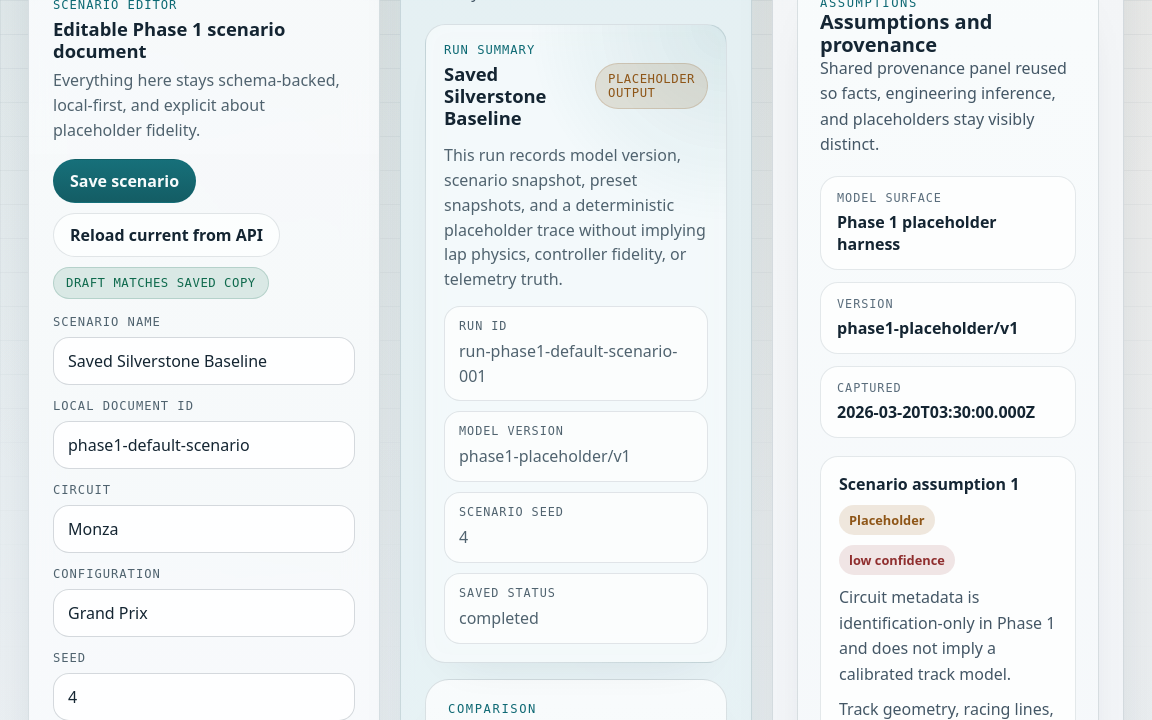
Test: App › saves the edited scenario and appends a placeholder run through the mocked API
(page scrolled)
Step 1. Replace the text in the field labelled "Scenario name" with "Wet validation draft" → (204, 361), box [53,337,355,385]
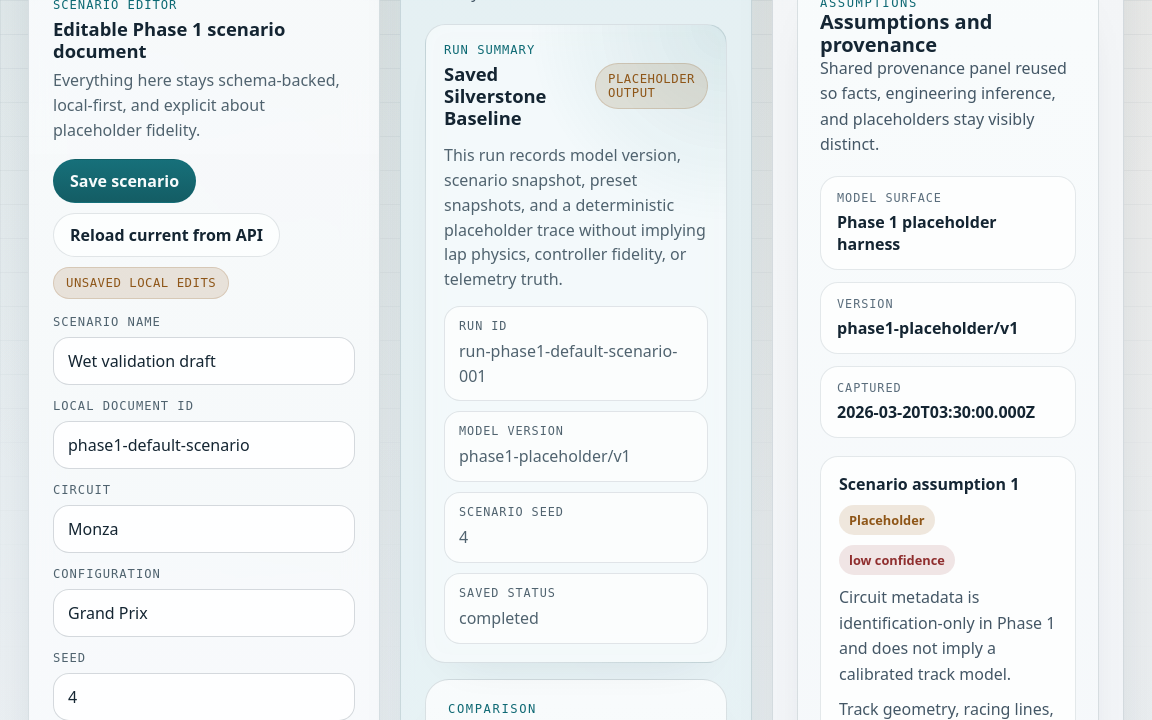
Step 2. Click the button "Save scenario" → (125, 181), box [53,159,196,203]
(page scrolled)
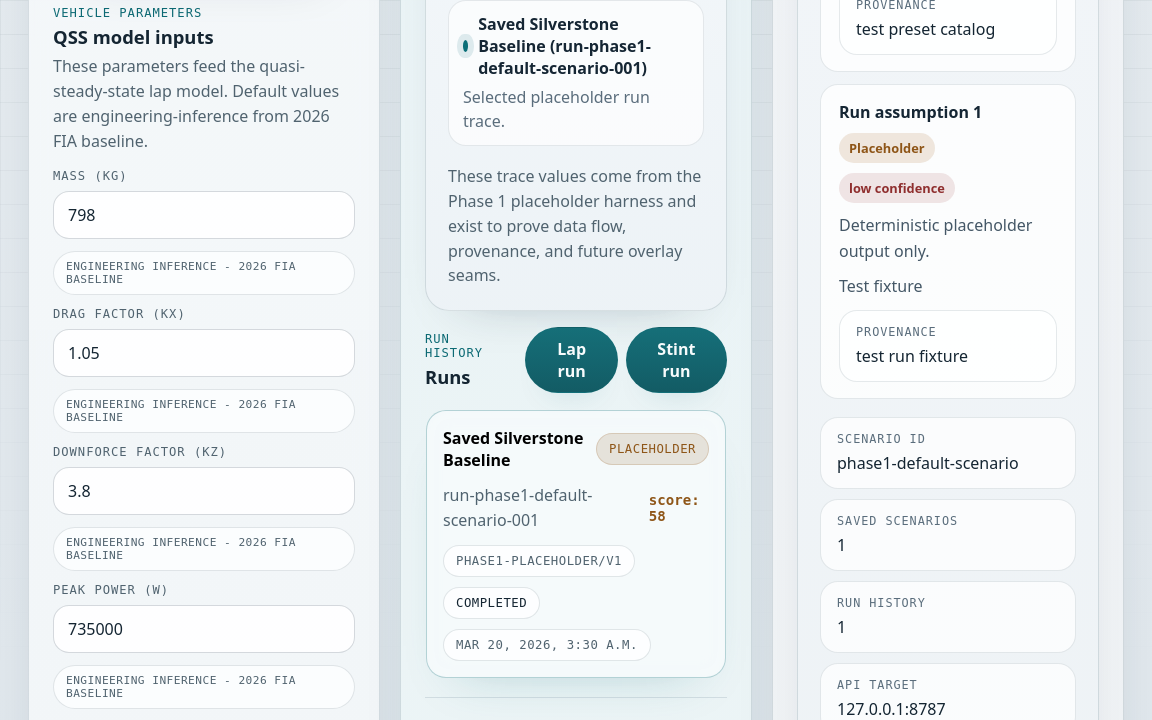
Step 3. Click the button "Lap run" → (572, 360), box [526,327,618,393]
(page scrolled)
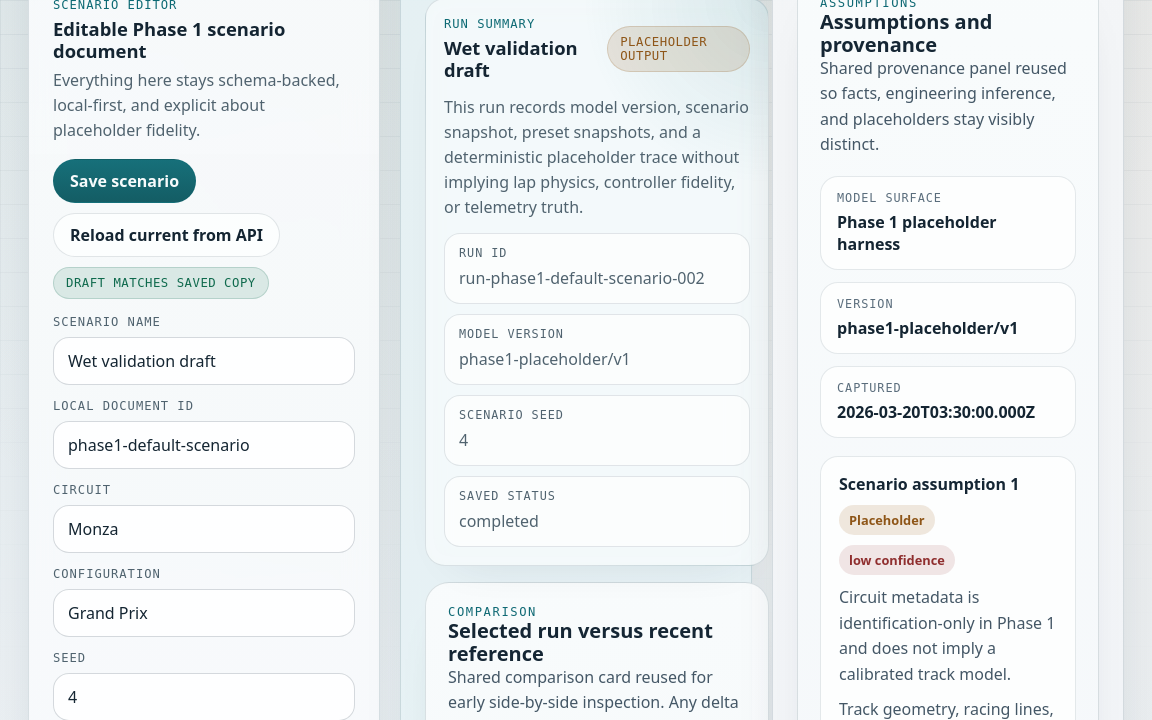
Result: the text "run-phase1-default-scenario-002" is shown at [459,266,735,291]
